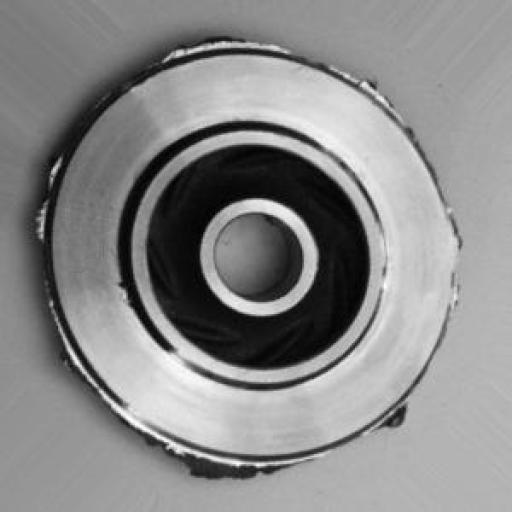defect: (21, 12, 481, 470)
